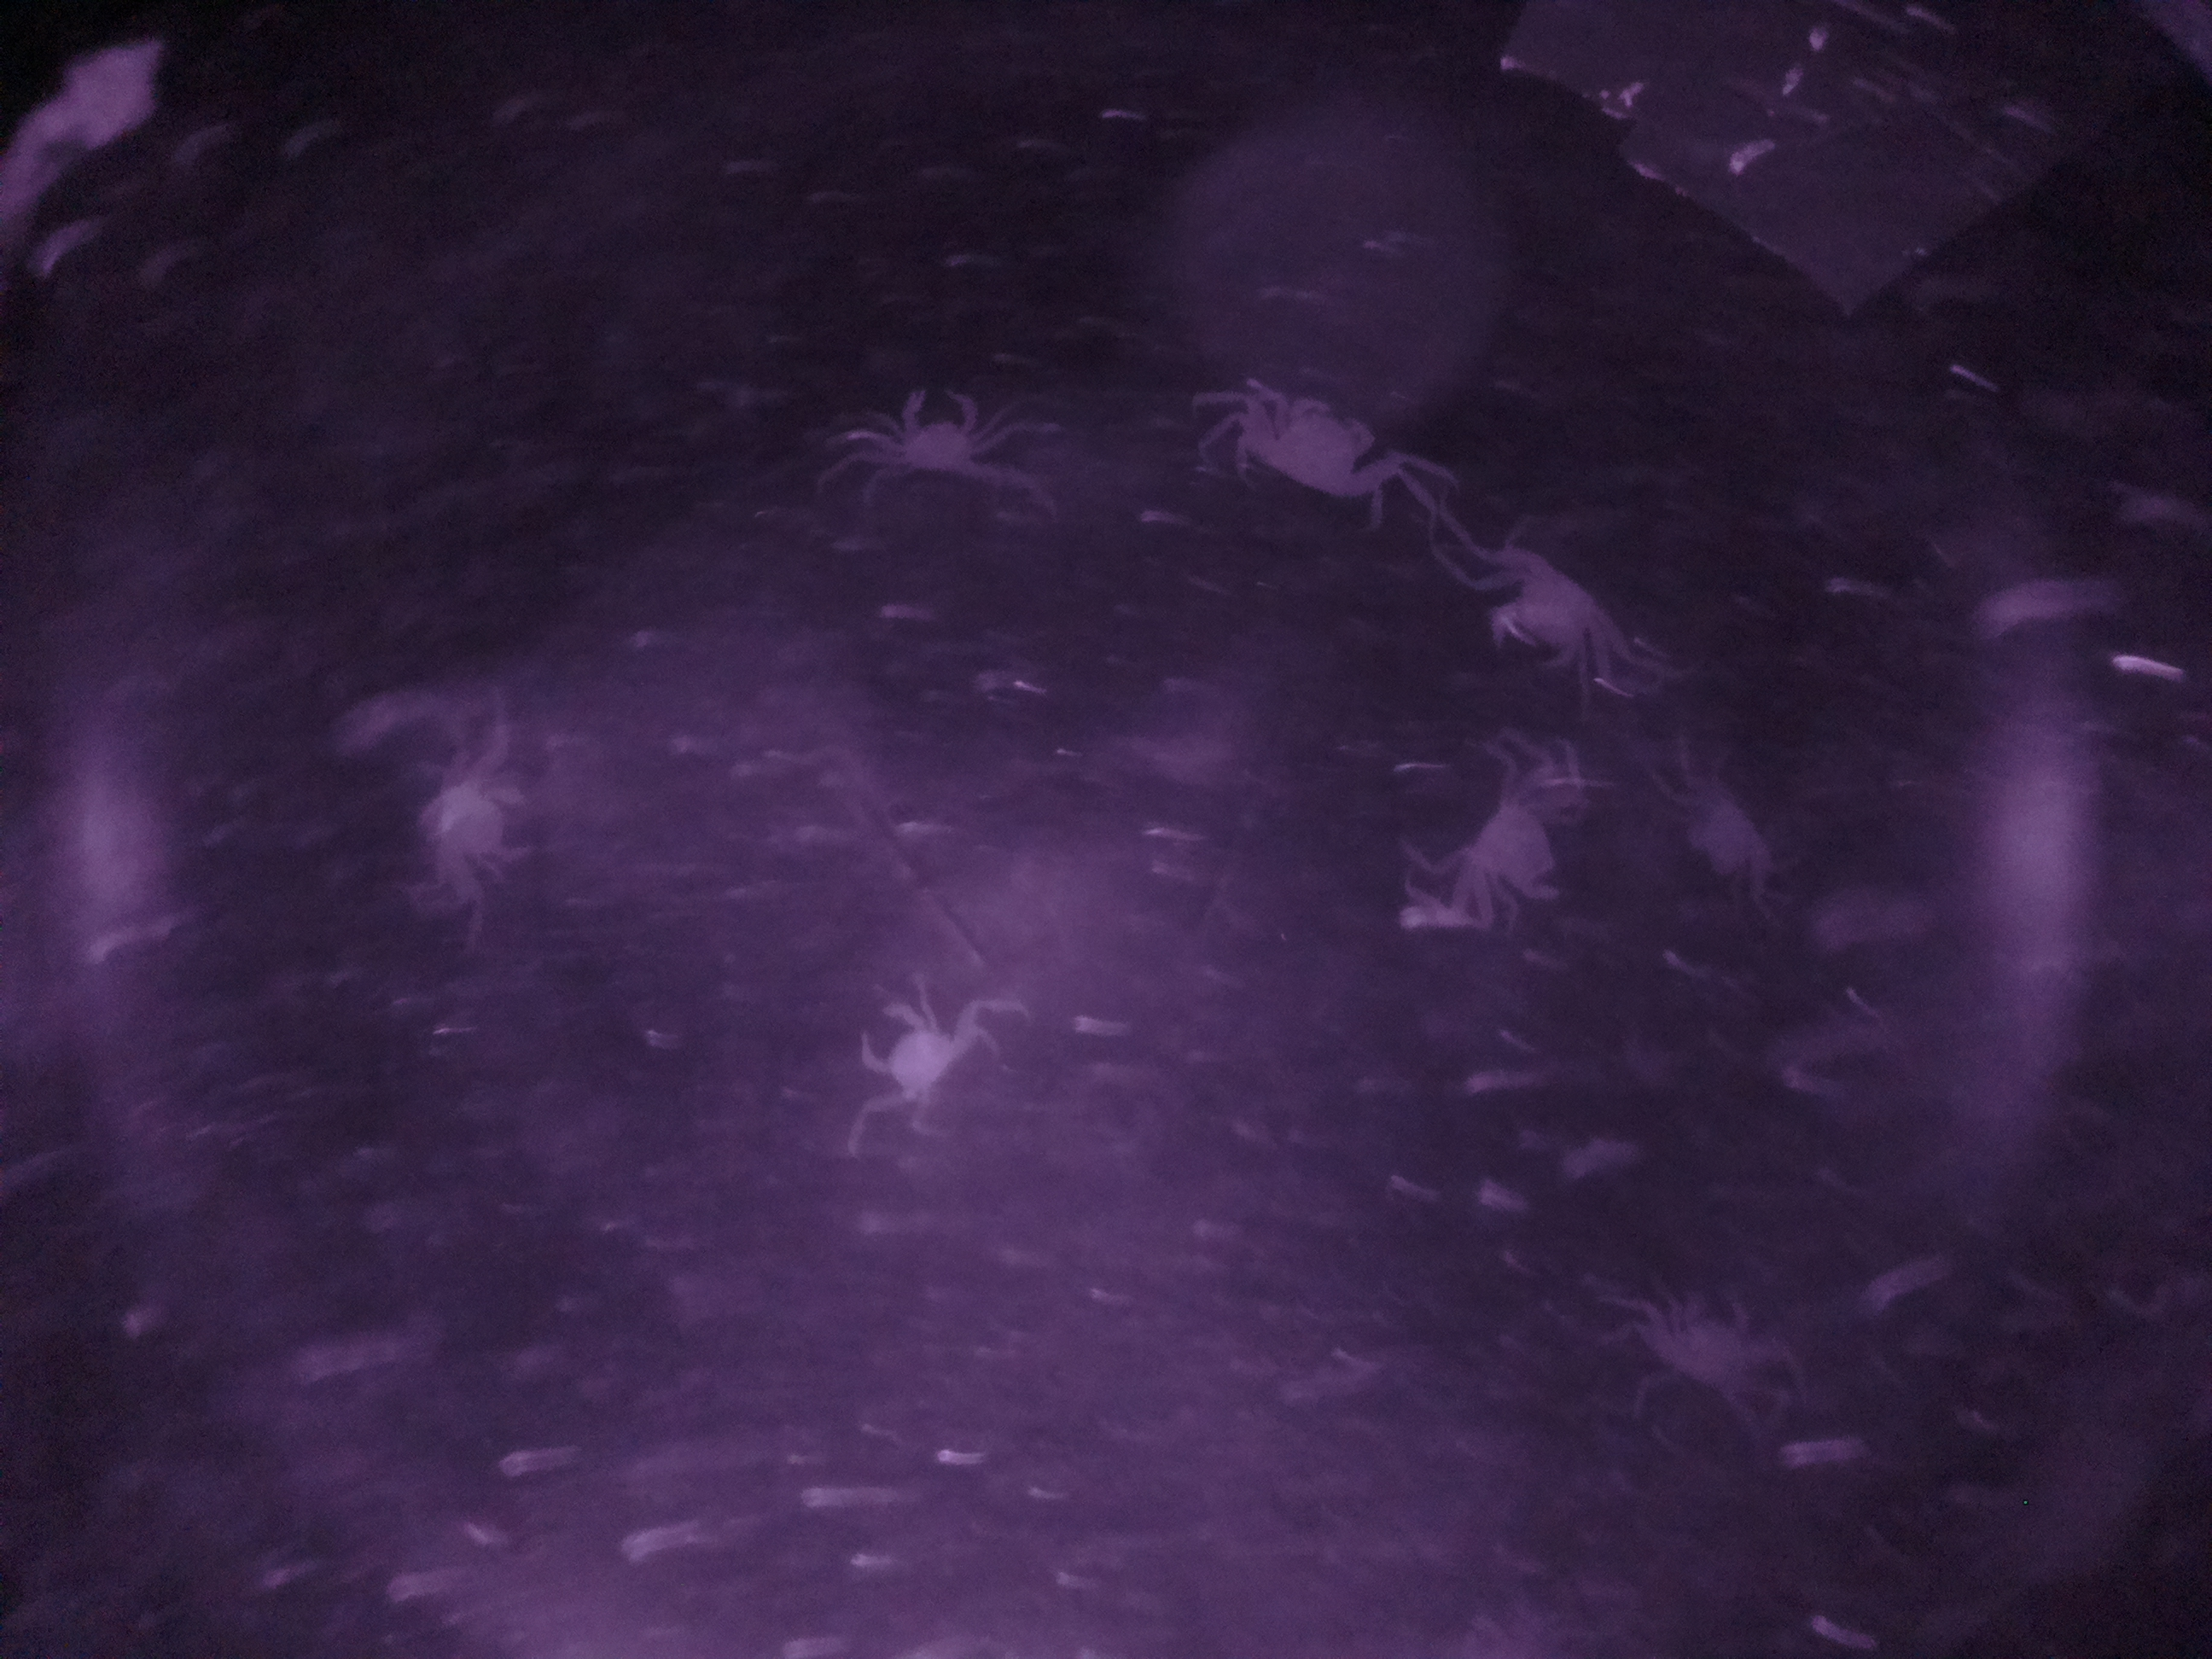Crab: (1453, 538, 1644, 683), (1217, 382, 1409, 523), (853, 373, 1019, 516)
